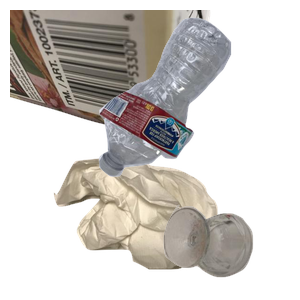cardboard: (10, 10, 213, 146)
glass: (161, 202, 300, 300)
plastic: (96, 15, 300, 184)
trash: (51, 155, 261, 300)
